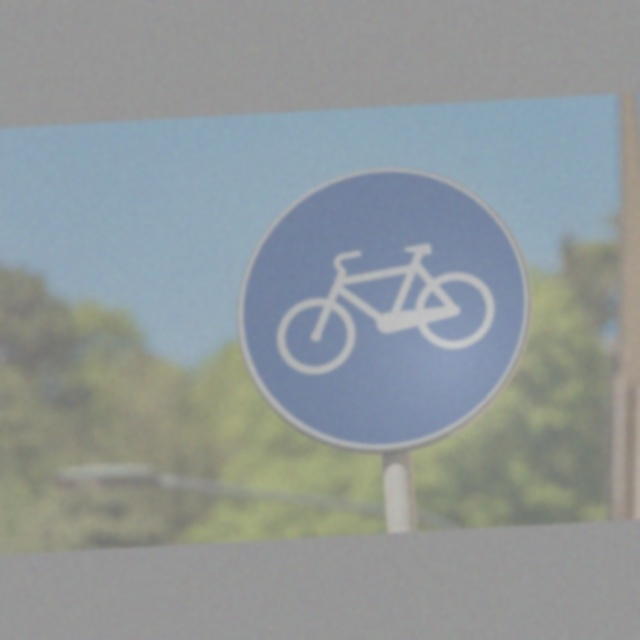Compulsory_Cycle_Track: (231, 160, 540, 461)
